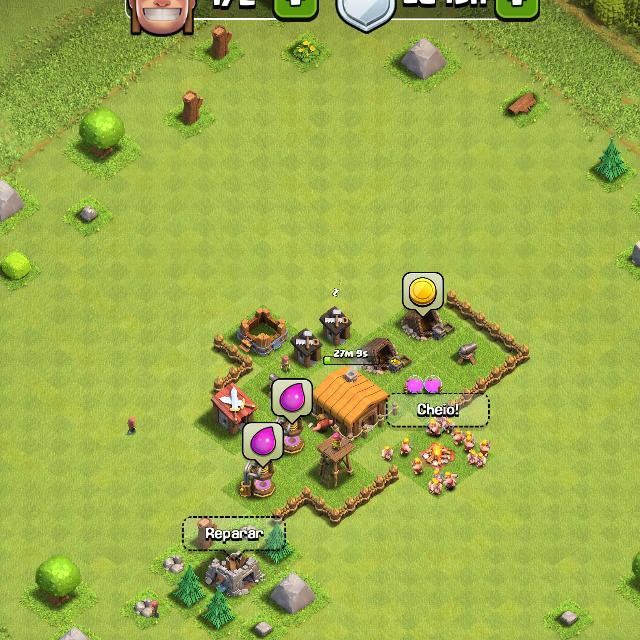Elixir: (243, 422, 284, 464), (272, 378, 314, 418)
coin: (402, 271, 443, 312)
